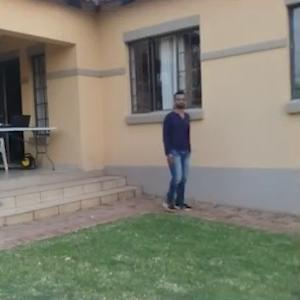follow: (155, 85, 194, 216)
